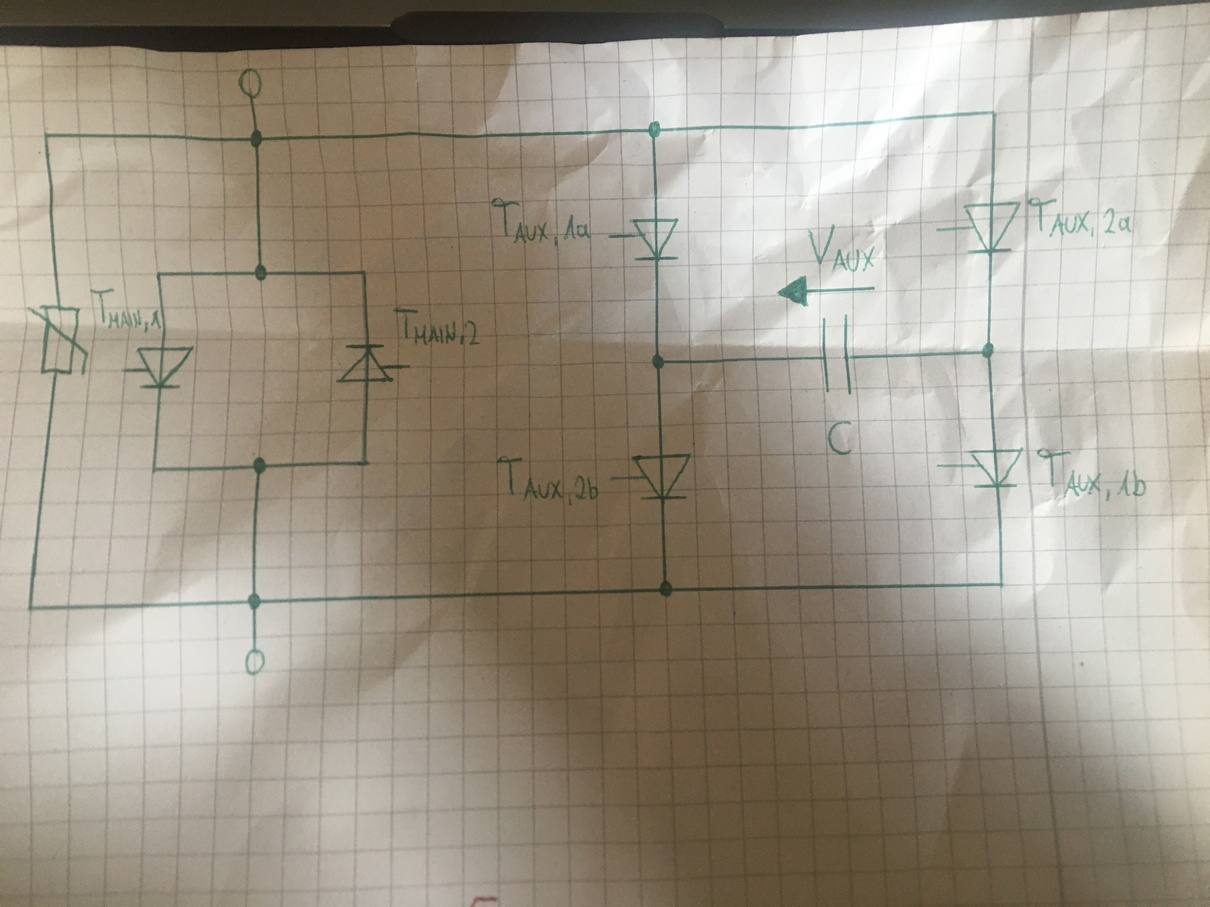capacitor.unpolarized: (818, 311, 858, 399)
junction: (250, 455, 268, 476), (252, 262, 269, 284), (245, 592, 264, 611), (646, 119, 663, 140), (650, 352, 668, 371), (658, 579, 675, 599), (979, 340, 996, 360), (248, 128, 264, 149), (358, 455, 373, 470), (24, 599, 38, 615), (995, 576, 1009, 591), (986, 105, 1000, 120), (40, 129, 54, 143), (358, 265, 371, 278), (152, 268, 165, 280), (147, 464, 160, 476)
terminal: (235, 66, 267, 100), (242, 646, 267, 677)
text: (1033, 445, 1150, 503), (494, 453, 603, 507), (488, 196, 594, 248), (1025, 192, 1134, 239), (391, 304, 482, 350), (804, 222, 879, 274), (88, 285, 162, 334), (823, 417, 858, 458)
thyristor: (961, 199, 1024, 257), (629, 451, 696, 503), (133, 343, 196, 393), (333, 341, 398, 386), (625, 216, 684, 265), (966, 446, 1027, 491)
varistor: (24, 301, 93, 379)
